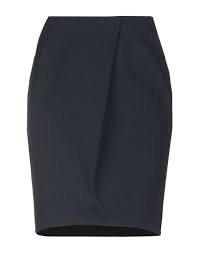F_tailored skirt: (18, 13, 179, 233)
